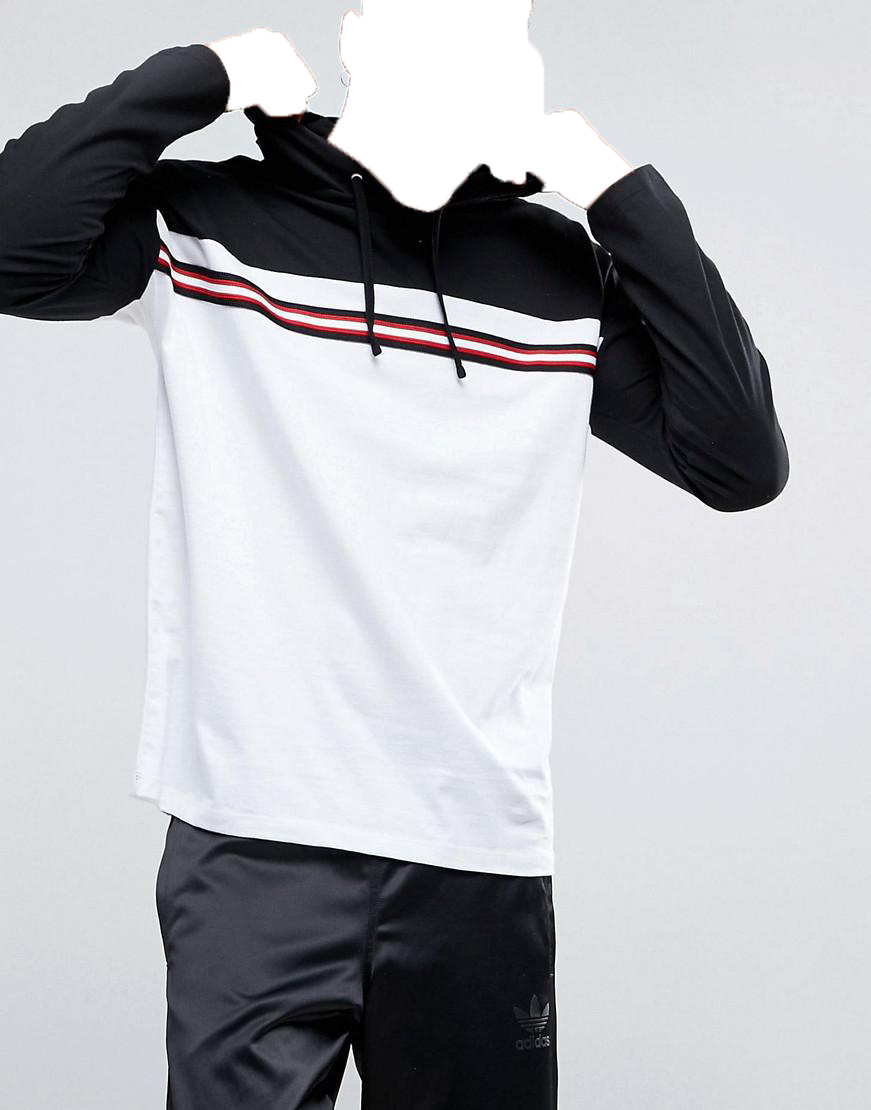teeshirt: (1, 46, 800, 893)
